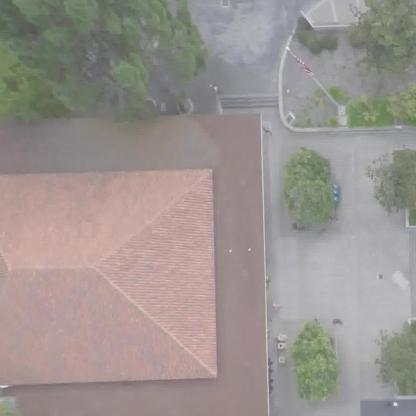Pedestrian: (268, 296, 288, 315), (311, 312, 322, 327)
